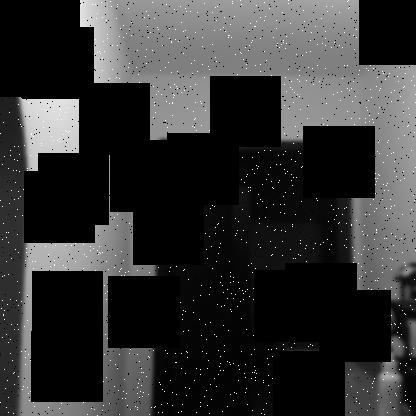Porte: (150, 137, 361, 415)
